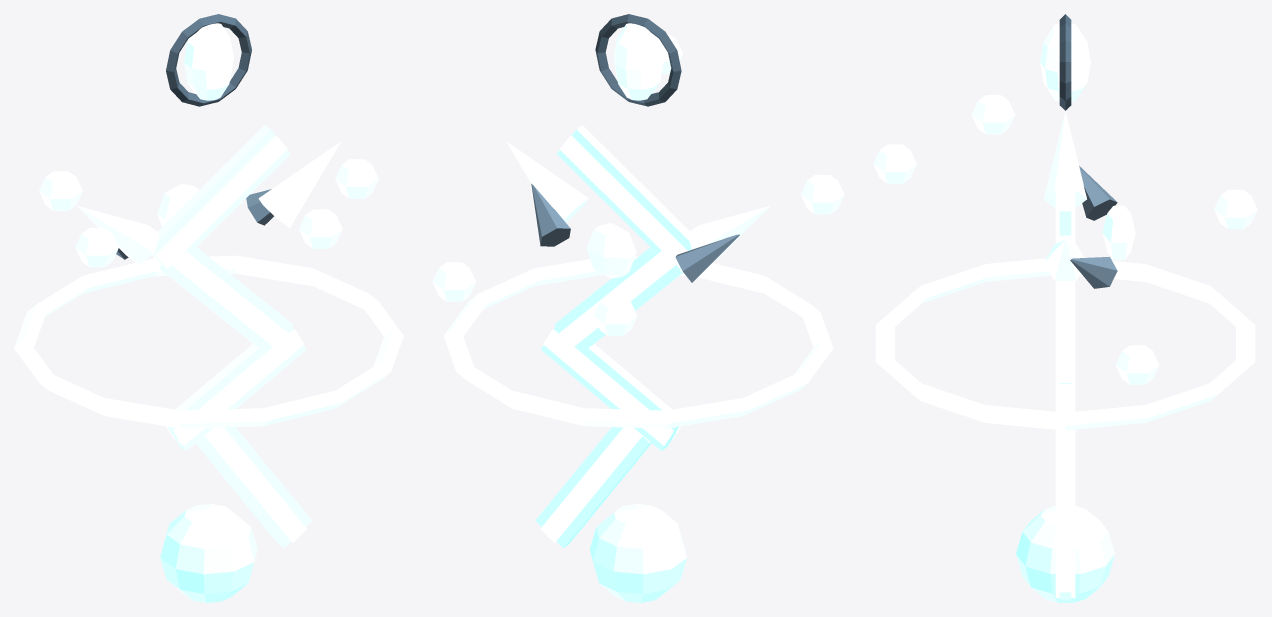
The model's file is evolved_zap.glb.
3 views of the same model, side by side, from view 1: azimuth 30°, elevation 25°; view 2: azimuth 150°, elevation 25°; view 3: azimuth 270°, elevation 25° (orthographic).
Parts seen in each view (by area): view 1: evolved_zap; view 2: evolved_zap; view 3: evolved_zap.
Boxes of the visible parts, x1=… form: evolved_zap: x1=14, y1=14, x2=403, y2=602; evolved_zap: x1=432, y1=14, x2=844, y2=602; evolved_zap: x1=873, y1=14, x2=1257, y2=602.
Size of the model in its own units: 2.16 by 3.55 by 2.13.
